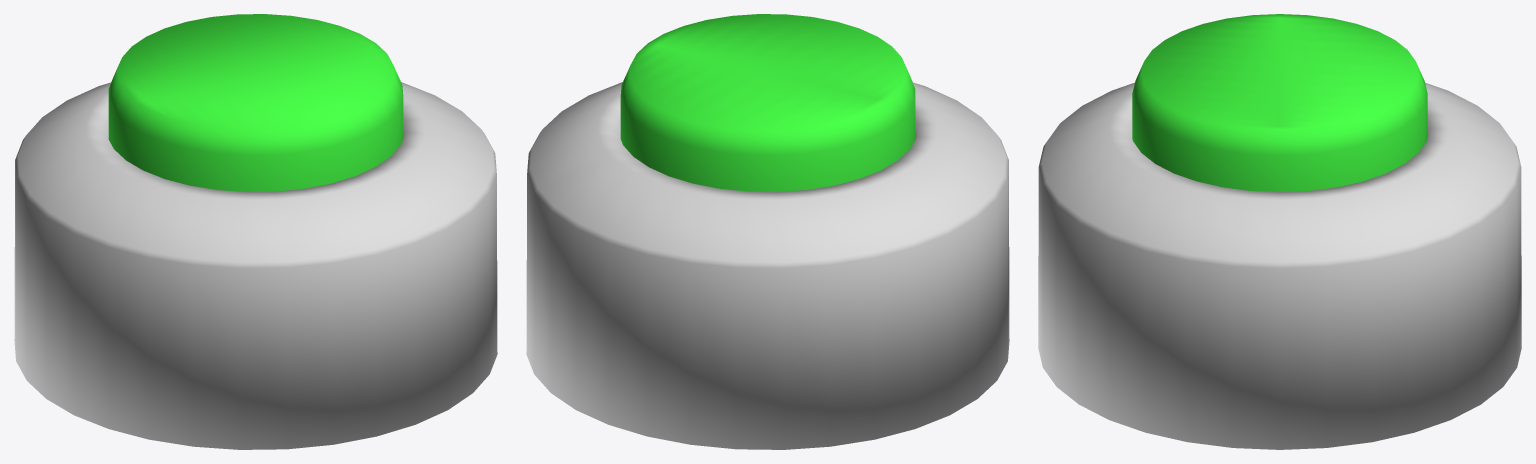
File: theme03_button.fbx
The picture shows the model from 3 angles, left to right: view 1: azimuth 30°, elevation 25°; view 2: azimuth 150°, elevation 25°; view 3: azimuth 270°, elevation 25°; orthographic projection.
Parts seen in each view (by area): view 1: low; view 2: low; view 3: low.
Part boxes in pixels (x1,y1,x2,y2): low: [14, 14, 497, 449]; low: [526, 14, 1009, 449]; low: [1038, 14, 1521, 449].
Bounding box in the file's own units: 17.13 × 10.76 × 17.13.
